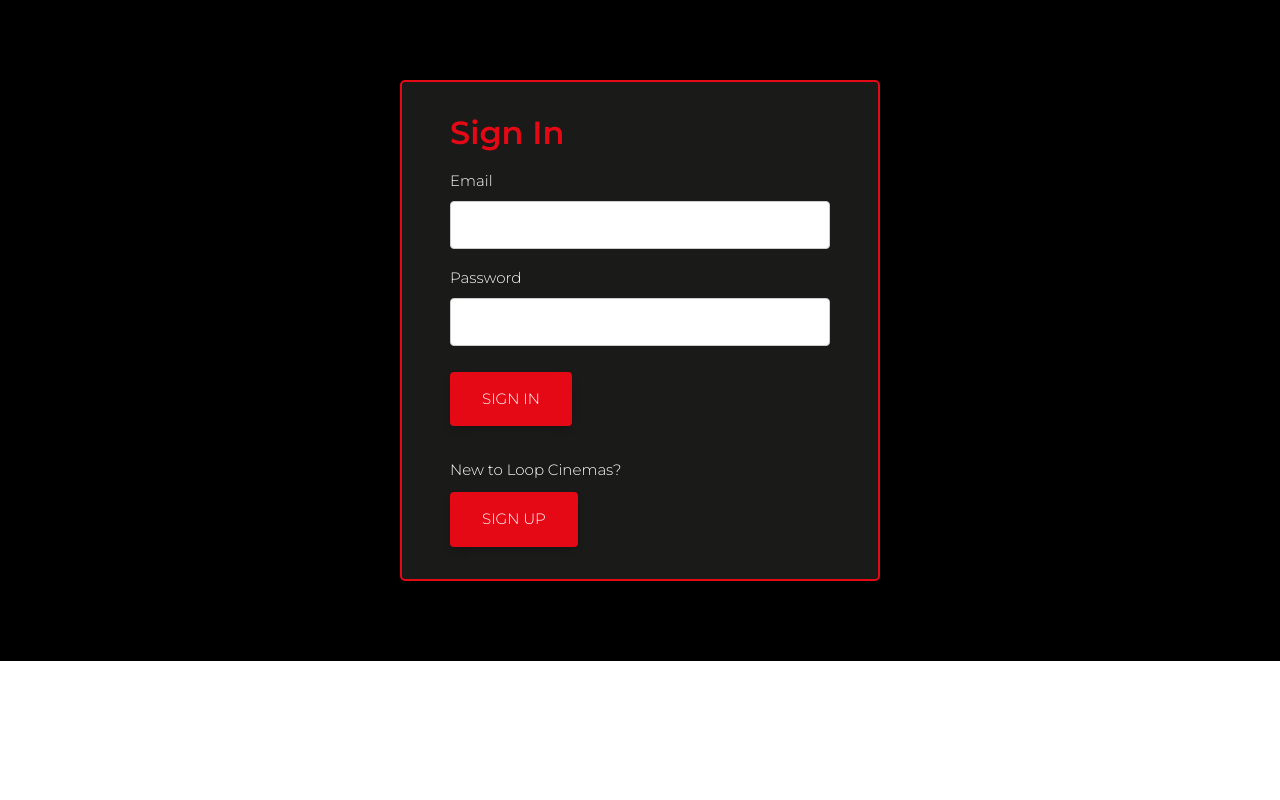
Scenario: Failed Sign In Scenario - Blank Password Input
The image size is (1280, 800).
Note: Simulate input.
Type "mbolger@test.com" into the field labelled "Email". click: (640, 225)
box: x1=450 y1=201 x2=830 y2=249
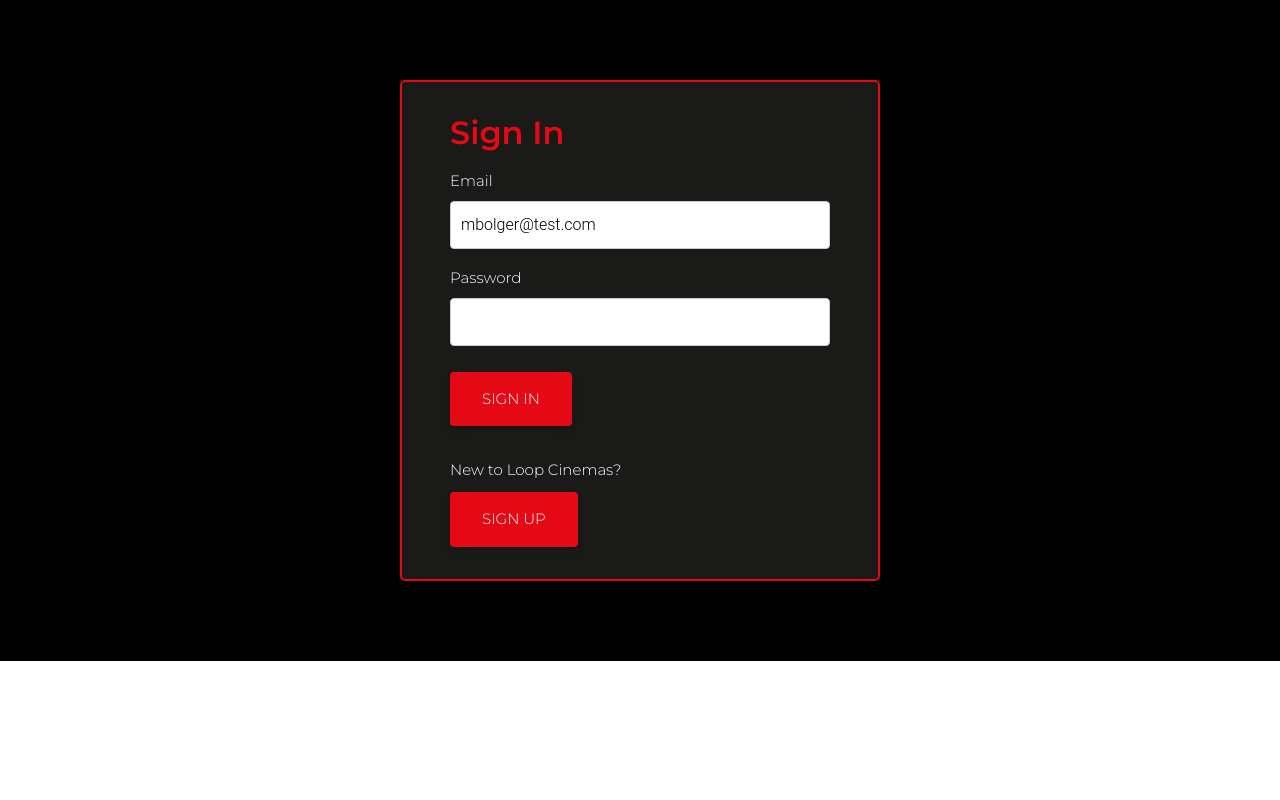
Note: Simulate click.
Click the button showing "SIGN IN". click: (511, 399)
box: x1=450 y1=372 x2=572 y2=426
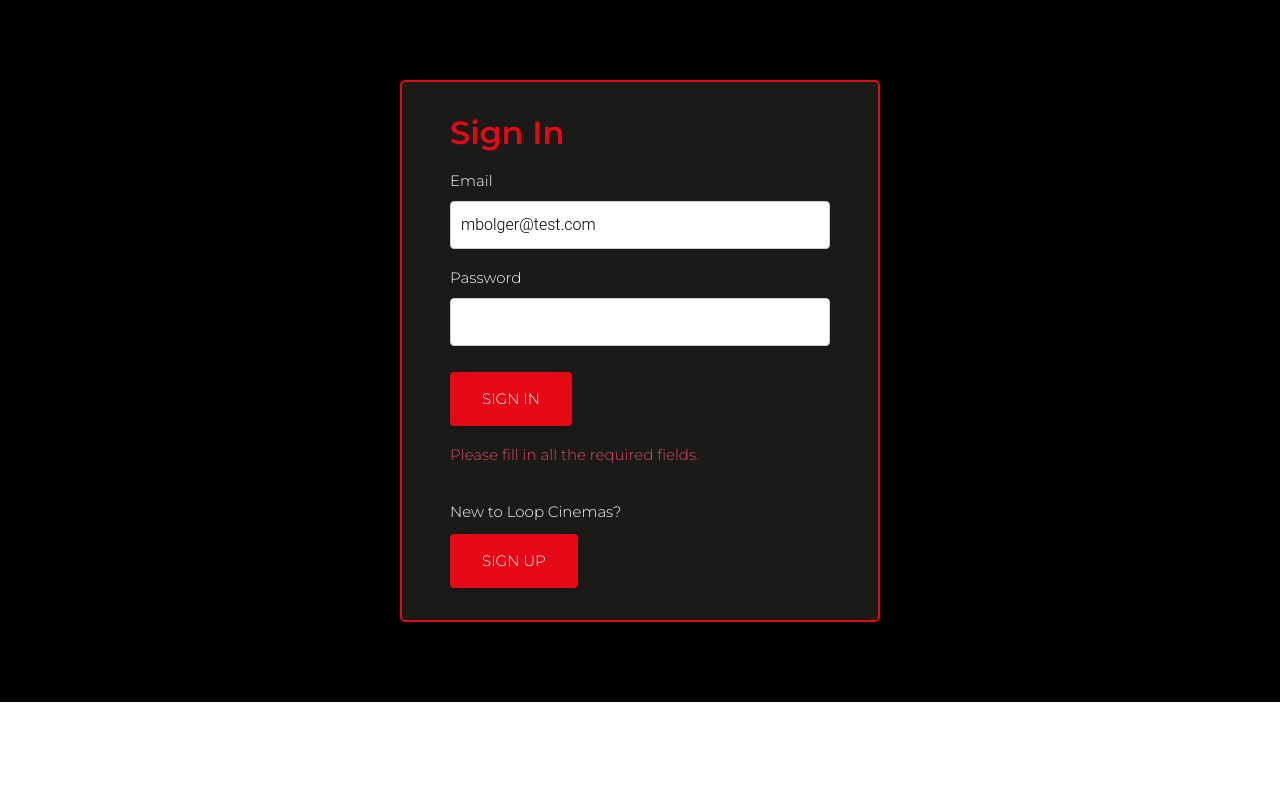
Check: the text "Please fill in all the required fields." is shown, box x1=450 y1=445 x2=699 y2=464
